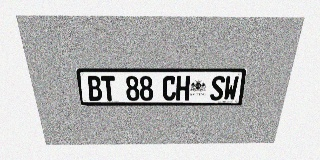8: (125, 76, 140, 101), (139, 76, 153, 101)
B: (86, 76, 103, 101)
C: (162, 76, 176, 100)
H: (176, 76, 190, 100)
S: (210, 76, 225, 100)
T: (101, 76, 116, 101)
W: (223, 76, 239, 100)
